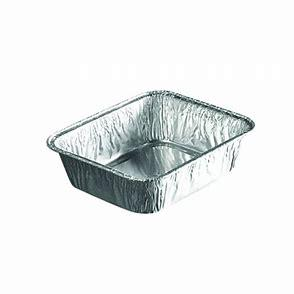metal: (48, 91, 255, 214)
